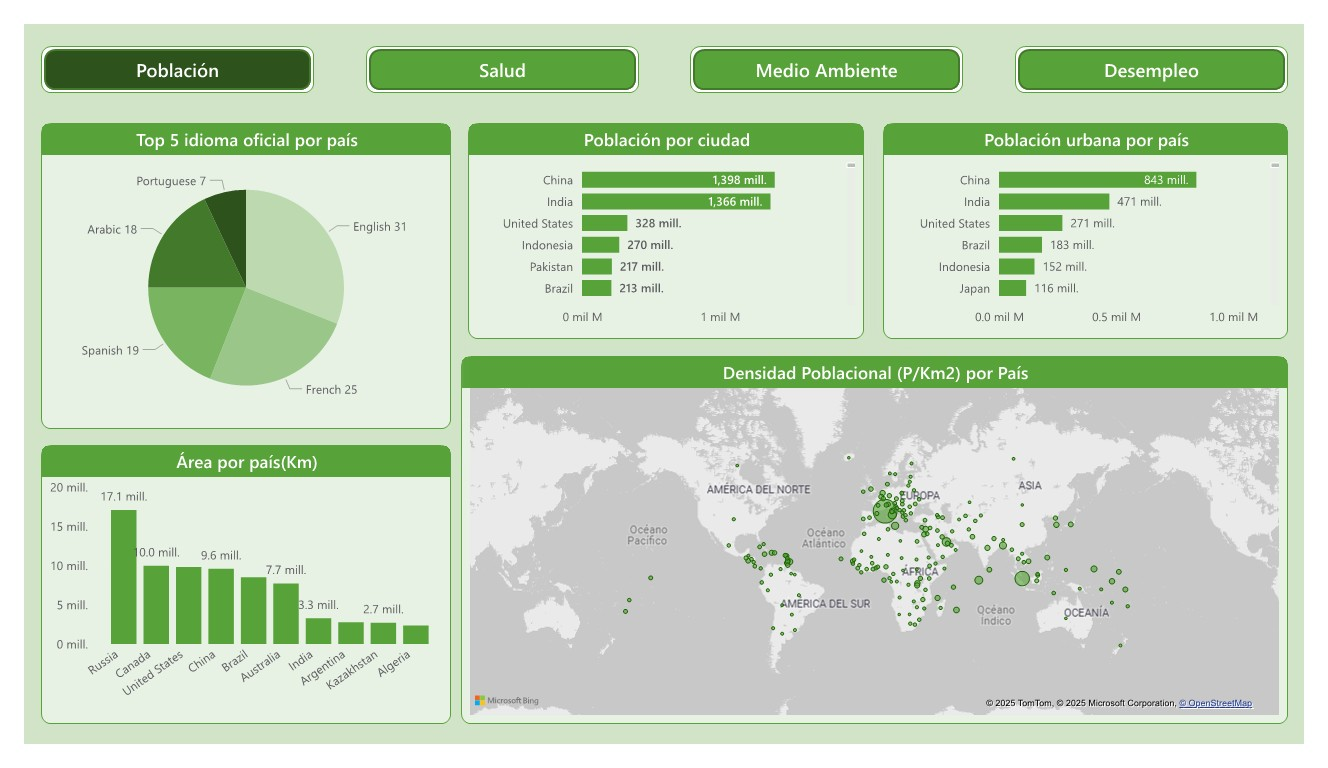

This screenshot's page, from the dashboard's own definition file:
{"tool":"powerbi","page":{"name":"Población","canvas":[1280,720],"ordinal":0},"visuals":[{"type":"map","fields":{"Category":["world-data-2023.Country"],"Size":["Sum(world-data-2023.Density(P/Km2))"]},"box":[437,332,827,368],"z":0},{"type":"shape","box":[17,22,273,47],"z":1000},{"type":"shape","box":[341.7,22,273,47],"z":2000},{"type":"shape","box":[991,22,273,47],"z":3000},{"type":"shape","box":[666.3,22,273,47],"z":4000},{"type":"barChart","title":"Población por ciudad","fields":{"Category":["world-data-2023.Country"],"Y":["metricas.Población"]},"box":[444,99,396,216],"z":5000},{"type":"clusteredColumnChart","title":"Área por país(Km)","fields":{"Category":["world-data-2023.Country"],"Y":["metricas.Area"]},"box":[17,421,410,279],"z":6000},{"type":"pieChart","title":"Top 5 idioma oficial por país","fields":{"Y":["metricas.Idioma"],"Category":["world-data-2023.Official language"]},"box":[17,99,410,306],"z":7000},{"type":"barChart","title":"Población urbana por país","fields":{"Category":["world-data-2023.Country"],"Y":["metricas.Población Urbana"]},"box":[859,99,405,216],"z":8000}]}

Visuals, with their boxes in screenshot pixels (x1, y1, x2, y2), scaled from the page's 1280x720 canvas onto the 1328x768 screenshot:
map - world-data-2023.Country x Sum(world-data-2023.Density(P/Km2)): detection(453, 354, 1311, 747)
shape: detection(18, 23, 301, 74)
shape: detection(355, 23, 638, 74)
shape: detection(1028, 23, 1311, 74)
shape: detection(691, 23, 975, 74)
"Población por ciudad" barChart: detection(461, 106, 872, 336)
"Área por país(Km)" clusteredColumnChart: detection(18, 449, 443, 747)
"Top 5 idioma oficial por país" pieChart: detection(18, 106, 443, 432)
"Población urbana por país" barChart: detection(891, 106, 1311, 336)
